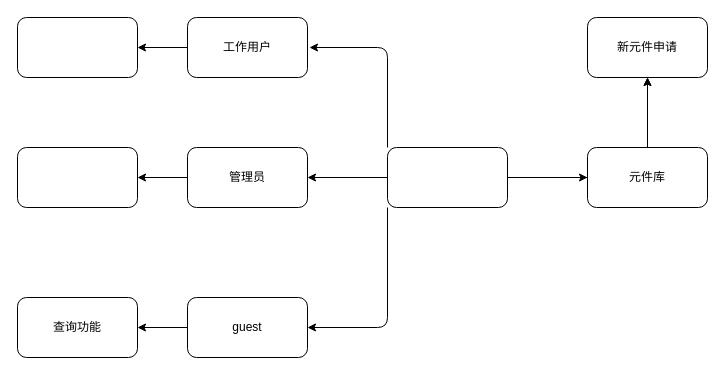
This 725x375 diagram has some shape labels left out. The centre of each missing label's shape, as x and y in pixels:
"元器件管理系统" belongs at point (447, 177).
"后台管理" belongs at point (77, 177).
"普通用户" belongs at point (77, 47).
